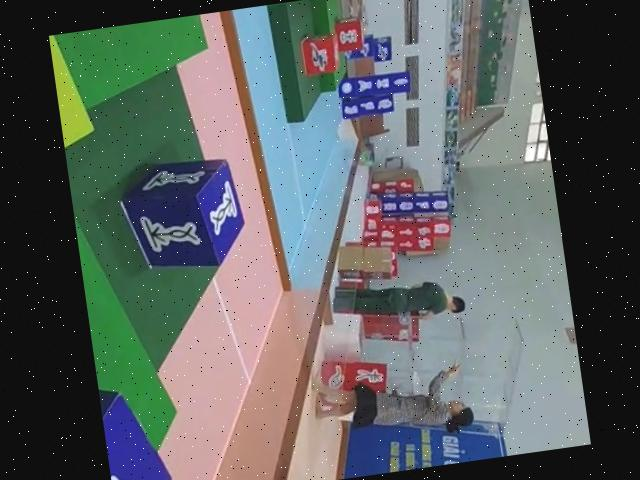R2 Real Blue: (115, 153, 250, 278), (97, 370, 173, 480)
